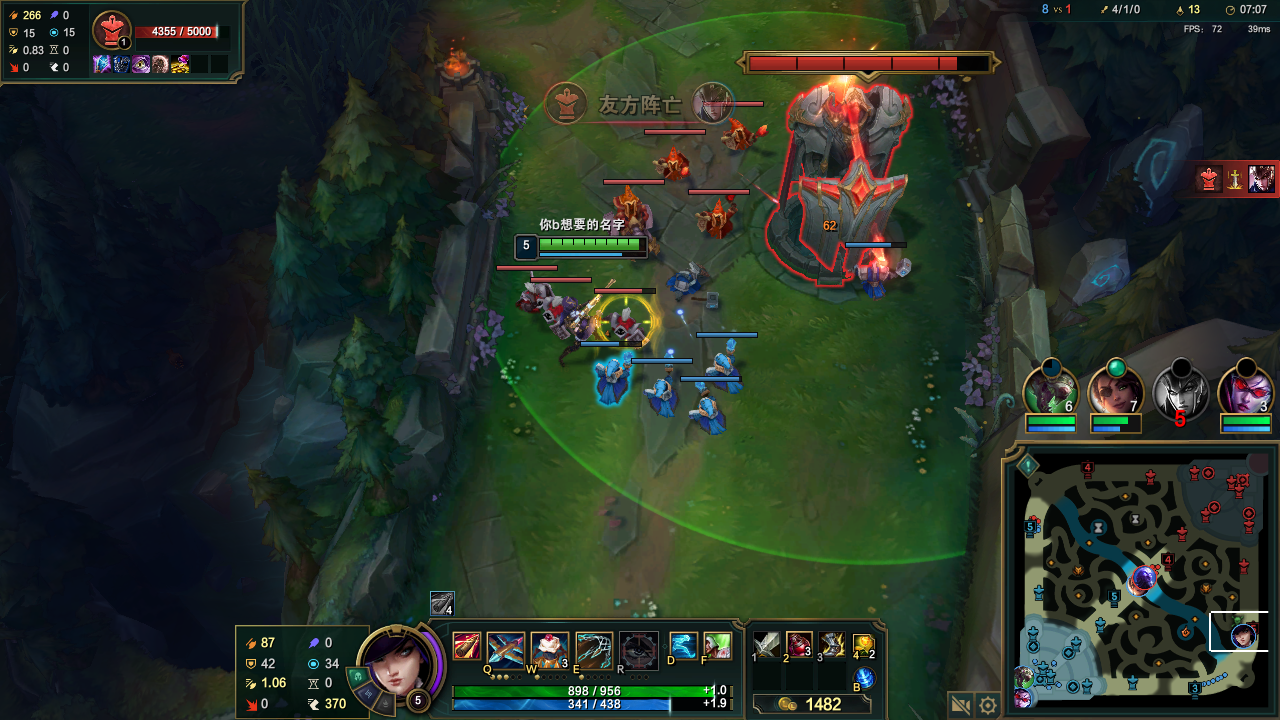DFFYT: (741, 55, 934, 290)
DFXB: (609, 200, 658, 244), (699, 200, 731, 239), (724, 124, 755, 152), (547, 294, 571, 330), (524, 282, 553, 311), (659, 150, 687, 180)
WFXB: (594, 359, 632, 403), (707, 349, 744, 391), (688, 394, 722, 435), (864, 261, 899, 296), (647, 378, 675, 416)
